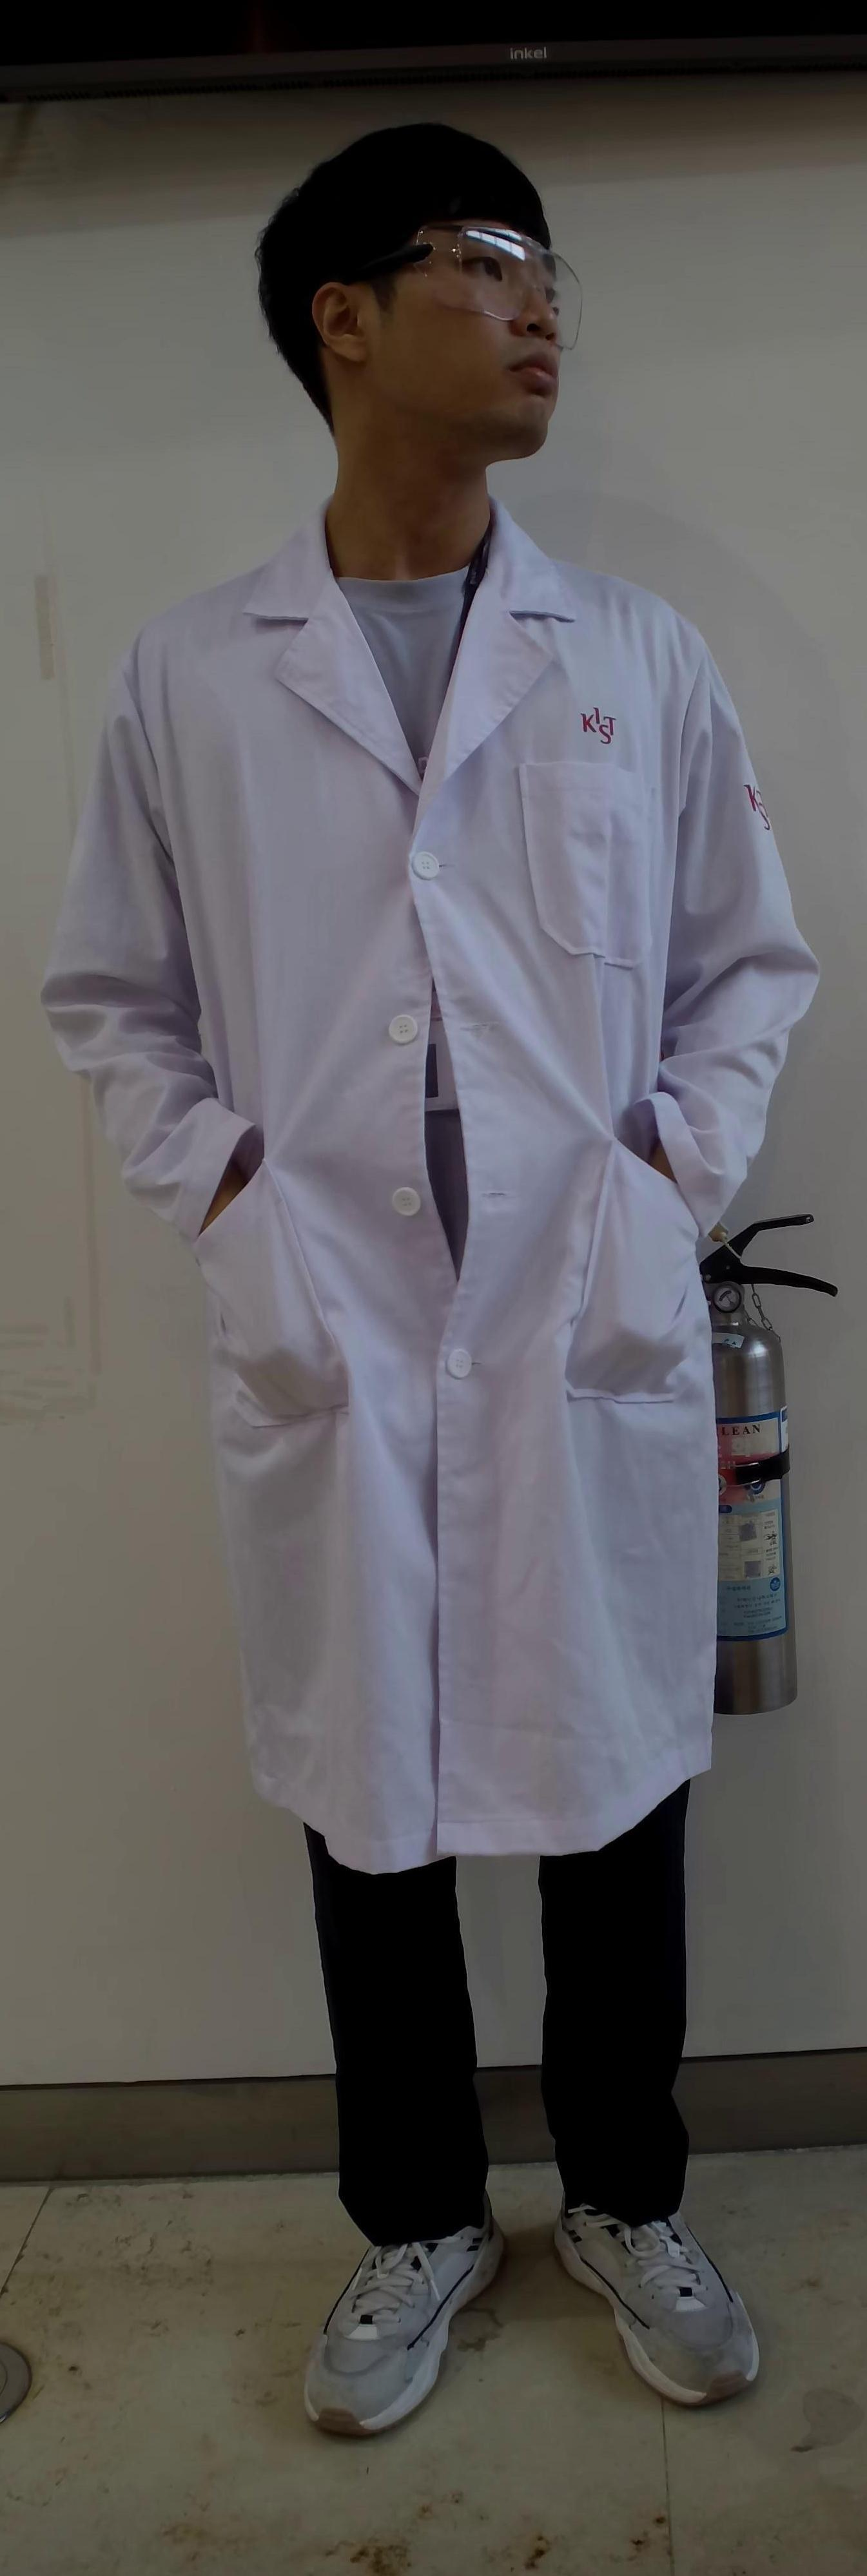lab_coat: (72, 595, 734, 1820)
